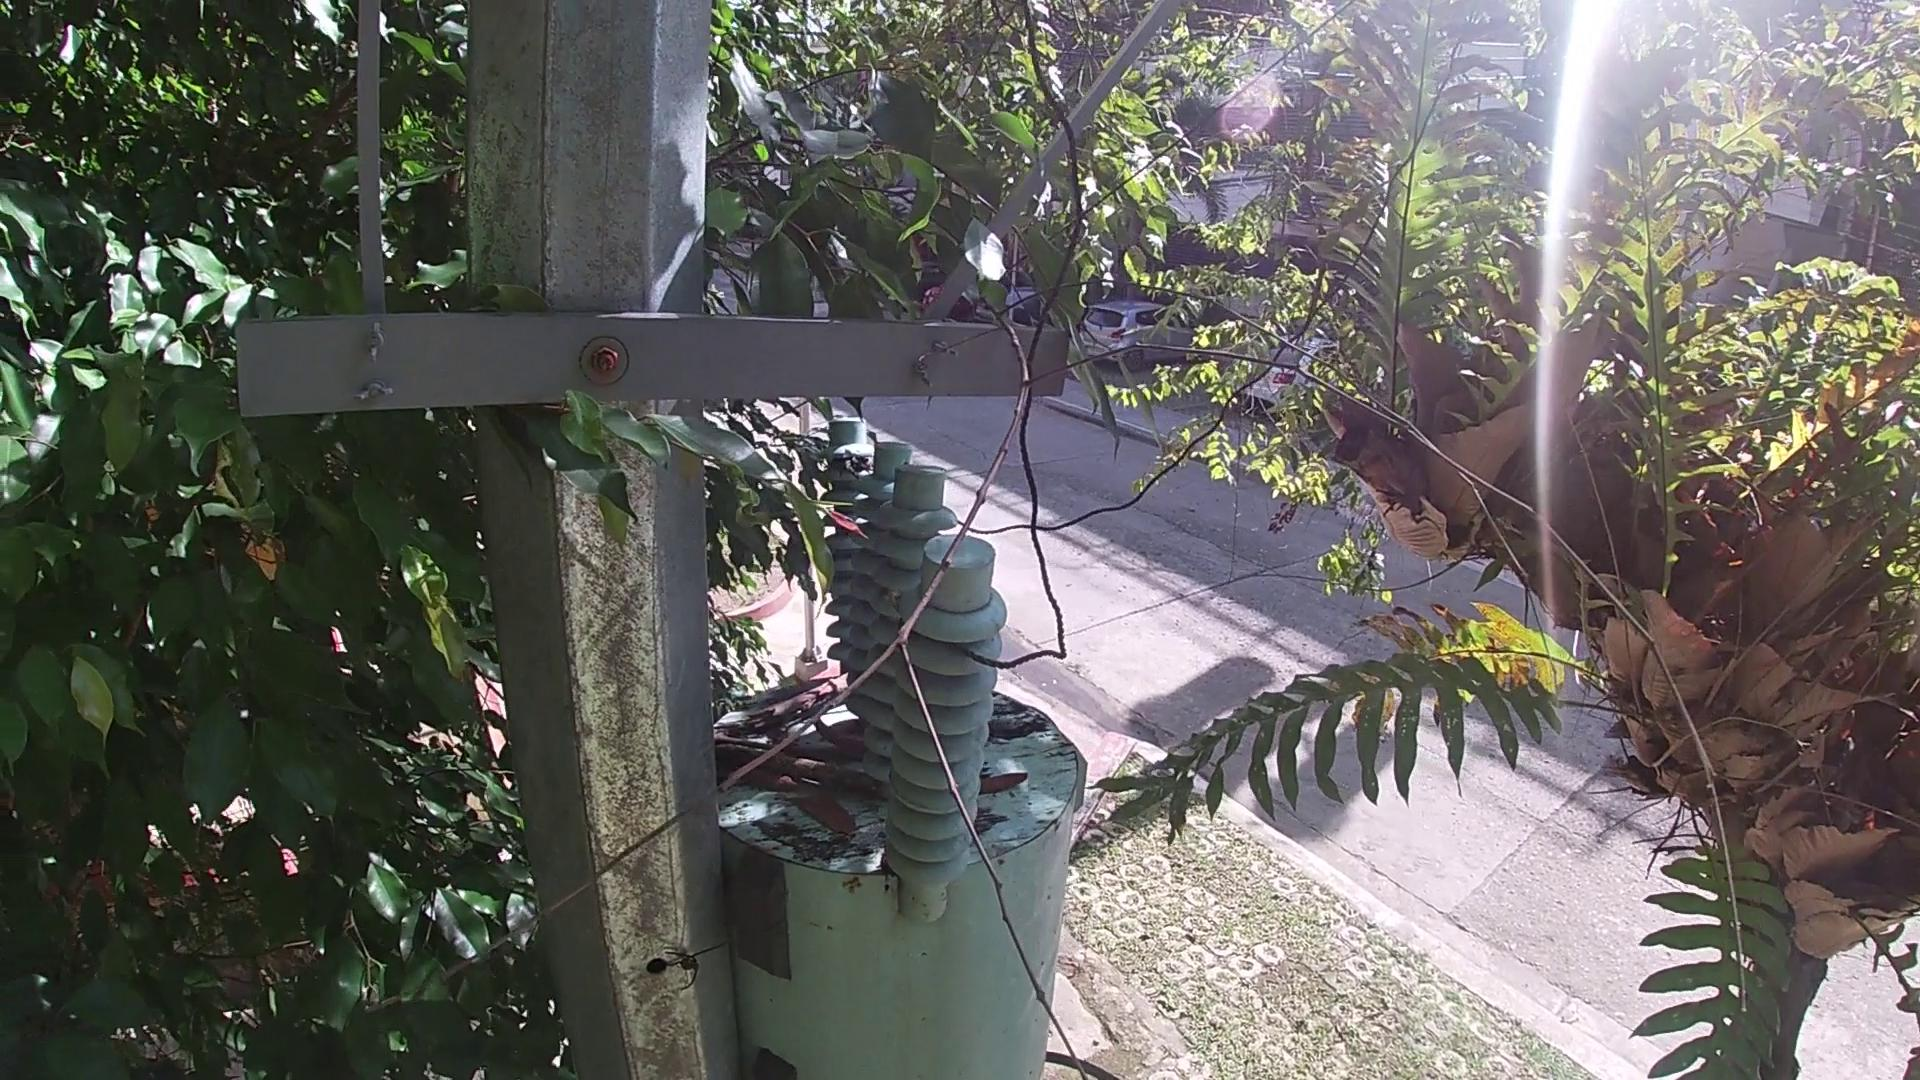leaf: (781, 793, 860, 840), (731, 764, 796, 793), (975, 769, 1029, 799)
tree branch: (356, 268, 1766, 1077), (715, 737, 882, 804), (741, 673, 852, 737)
